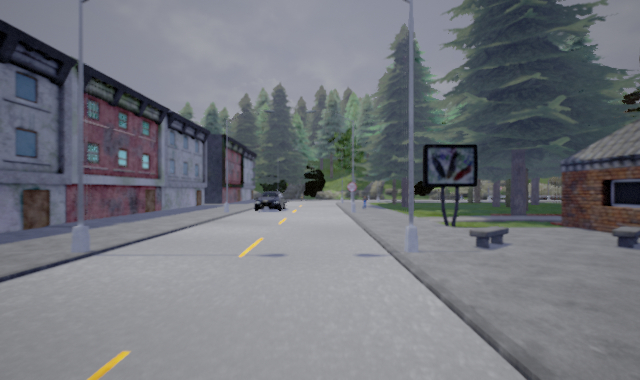traffic_sign: (346, 180, 357, 192)
vehicle: (253, 191, 286, 211)
